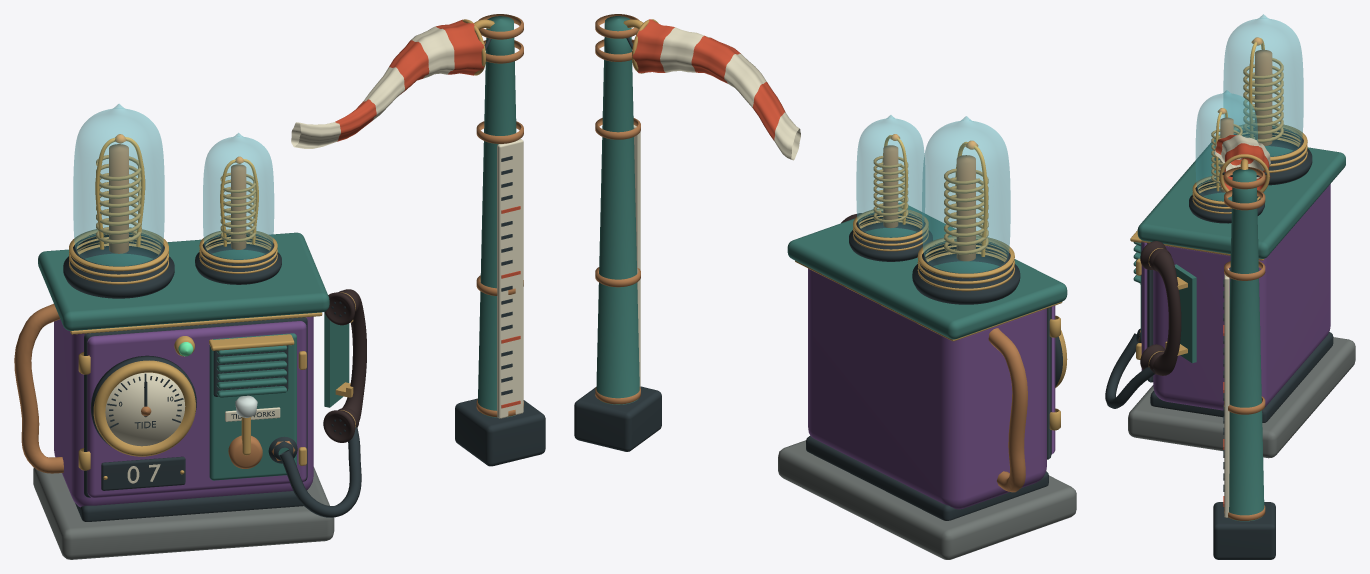
The model's file is instruments.glb.
3 renders of one model, left to right at view 1: azimuth 30°, elevation 25°; view 2: azimuth 150°, elevation 25°; view 3: azimuth 270°, elevation 25°, orthographic. The views are drawn at different scales.
Visible parts, largest first — view 1: Rolled canopy, Foundry shell, Evacuated glass, Recessed shoe, Concrete footing, Evacuated glass.001, Tapered tide staff, WindSleeve, Enamel tide rule, Canopy shadow, Bolted pedestal, Ivory dial (+11 smaller); view 2: Foundry shell, Tapered tide staff, Evacuated glass, Rolled canopy, Concrete footing, Evacuated glass.001, WindSleeve, Bayonet collar, Recessed shoe, Bolted pedestal, Porcelain foot, Switch bearing (+7 smaller); view 3: Foundry shell, Tapered tide staff, Rolled canopy, Evacuated glass, Concrete footing, Evacuated glass.001, Recessed shoe, Bolted pedestal, One-piece curved grip, Bayonet collar, Staff collar, WindSleeve (+9 smaller).
Boxes of the visible parts, left/top/right/bottom form: Rolled canopy: left=38, top=232, right=329, bottom=480; Foundry shell: left=54, top=316, right=313, bottom=507; Evacuated glass: left=73, top=104, right=164, bottom=266; Recessed shoe: left=75, top=317, right=361, bottom=521; Concrete footing: left=33, top=467, right=334, bottom=559; Evacuated glass.001: left=203, top=133, right=274, bottom=259; Tapered tide staff: left=478, top=16, right=516, bottom=417; WindSleeve: left=291, top=19, right=483, bottom=148; Enamel tide rule: left=497, top=139, right=523, bottom=418; Canopy shadow: left=70, top=312, right=322, bottom=479; Bolted pedestal: left=455, top=38, right=545, bottom=466; Ivory dial: left=105, top=372, right=280, bottom=483; Foundry shell: left=808, top=268, right=1055, bottom=509; Tapered tide staff: left=596, top=16, right=639, bottom=404; Evacuated glass: left=922, top=116, right=1010, bottom=273; Rolled canopy: left=787, top=202, right=1067, bottom=339; Concrete footing: left=778, top=440, right=1076, bottom=559; Evacuated glass.001: left=856, top=115, right=924, bottom=237; WindSleeve: left=632, top=19, right=800, bottom=160; Bayonet collar: left=917, top=168, right=1014, bottom=291; Recessed shoe: left=806, top=307, right=1062, bottom=520; Bolted pedestal: left=574, top=37, right=661, bottom=451; Porcelain foot: left=912, top=239, right=1020, bottom=304; Switch bearing: left=988, top=328, right=1027, bottom=492; Foundry shell: left=1141, top=184, right=1330, bottom=410; Tapered tide staff: left=1228, top=169, right=1264, bottom=521; Rolled canopy: left=1133, top=134, right=1345, bottom=337; Evacuated glass: left=1223, top=14, right=1303, bottom=156; Concrete footing: left=1128, top=337, right=1355, bottom=458; Evacuated glass.001: left=1195, top=90, right=1258, bottom=201; Recessed shoe: left=1105, top=243, right=1333, bottom=422; Bolted pedestal: left=1213, top=172, right=1275, bottom=559; One-piece curved grip: left=1140, top=241, right=1181, bottom=375; Bayonet collar: left=1234, top=58, right=1307, bottom=172; Staff collar: left=1224, top=167, right=1265, bottom=520; WindSleeve: left=1214, top=135, right=1270, bottom=190.
Size of the model in its own units: 3.6 by 3.09 by 1.83.
